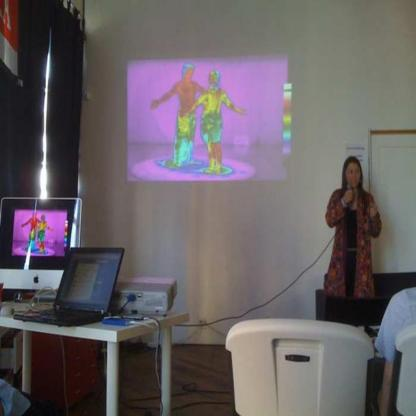board: (32, 243, 124, 334)
